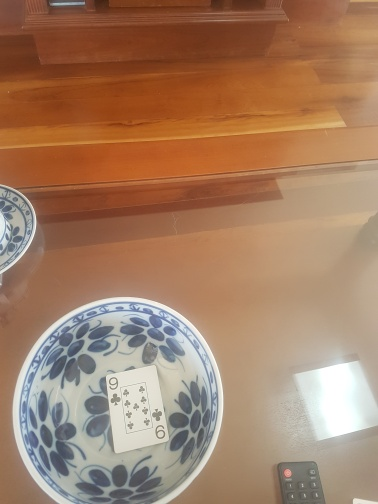nine: (107, 365, 170, 451)
